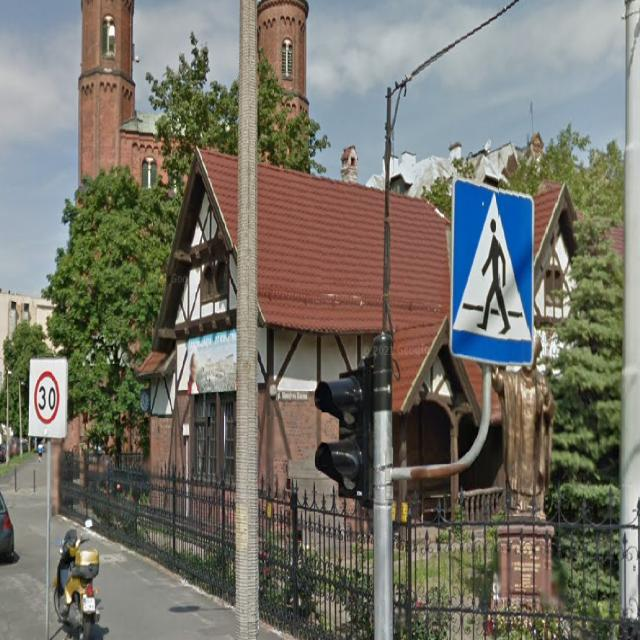Przejscie dla pieszych: (450, 179, 534, 370)
